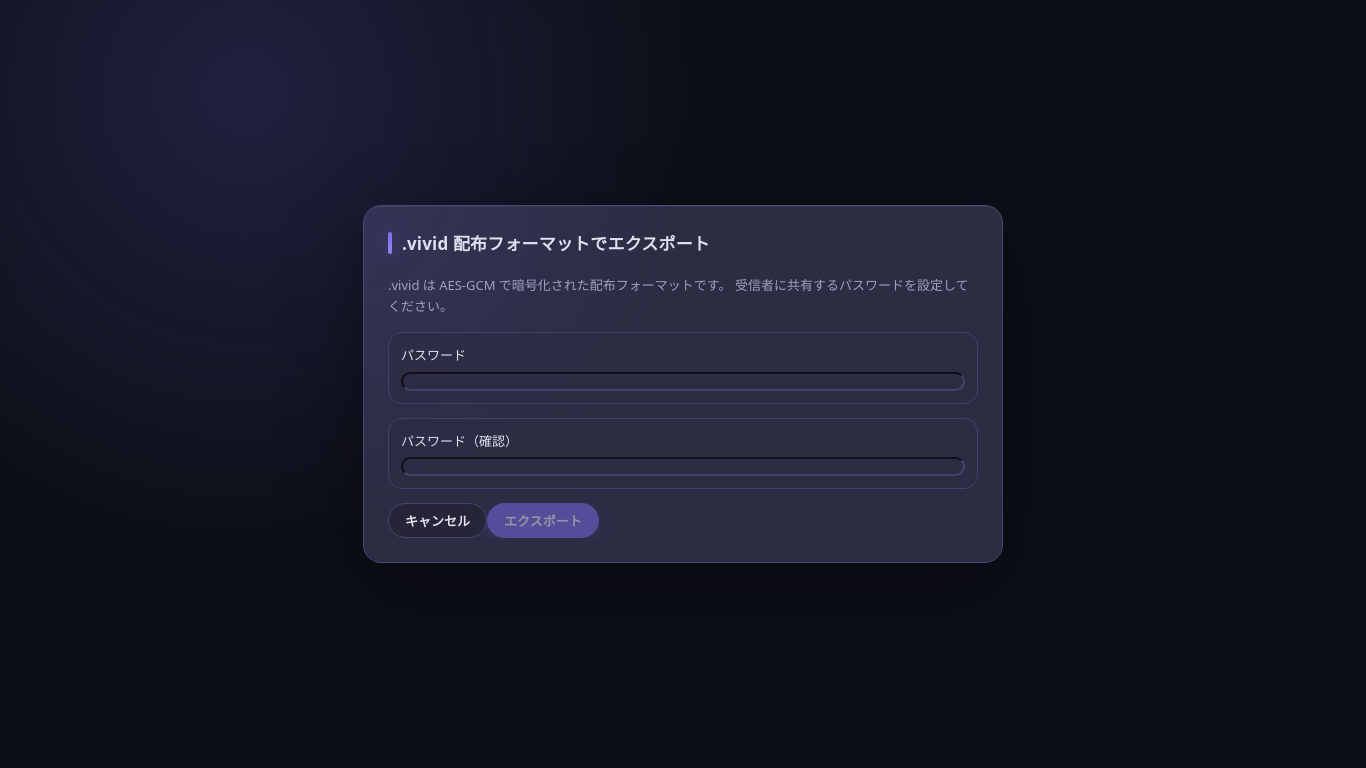
Test: VividDialog › 共通動作 › 処理中は入力フィールドとボタンが無効化
The image size is (1366, 768).
Type "go" into the password field labelled "パスワード" at [683, 381], box [401, 372, 965, 390]
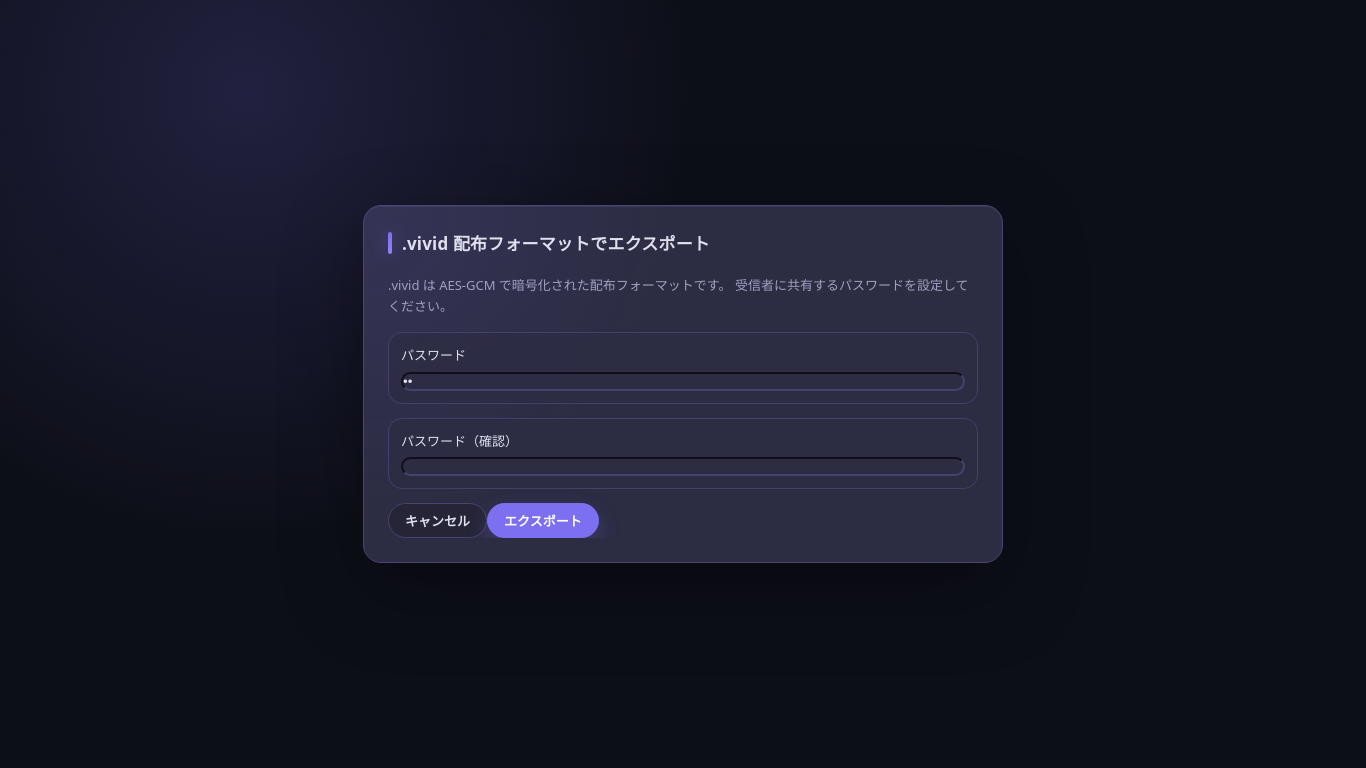
Type "go" into the password field labelled "パスワード（確認）" at [683, 467], box [401, 457, 965, 476]
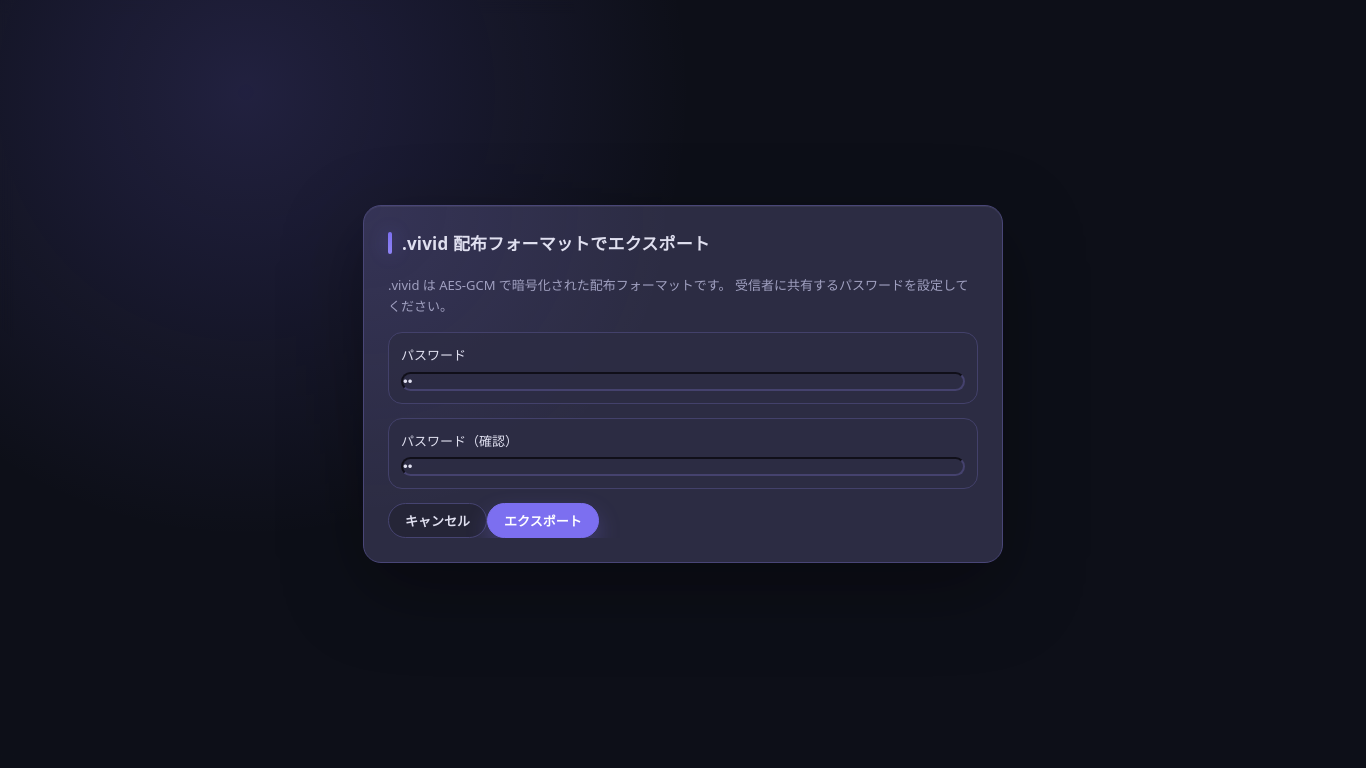
Click the button "エクスポート" at [543, 521], box [487, 503, 599, 538]
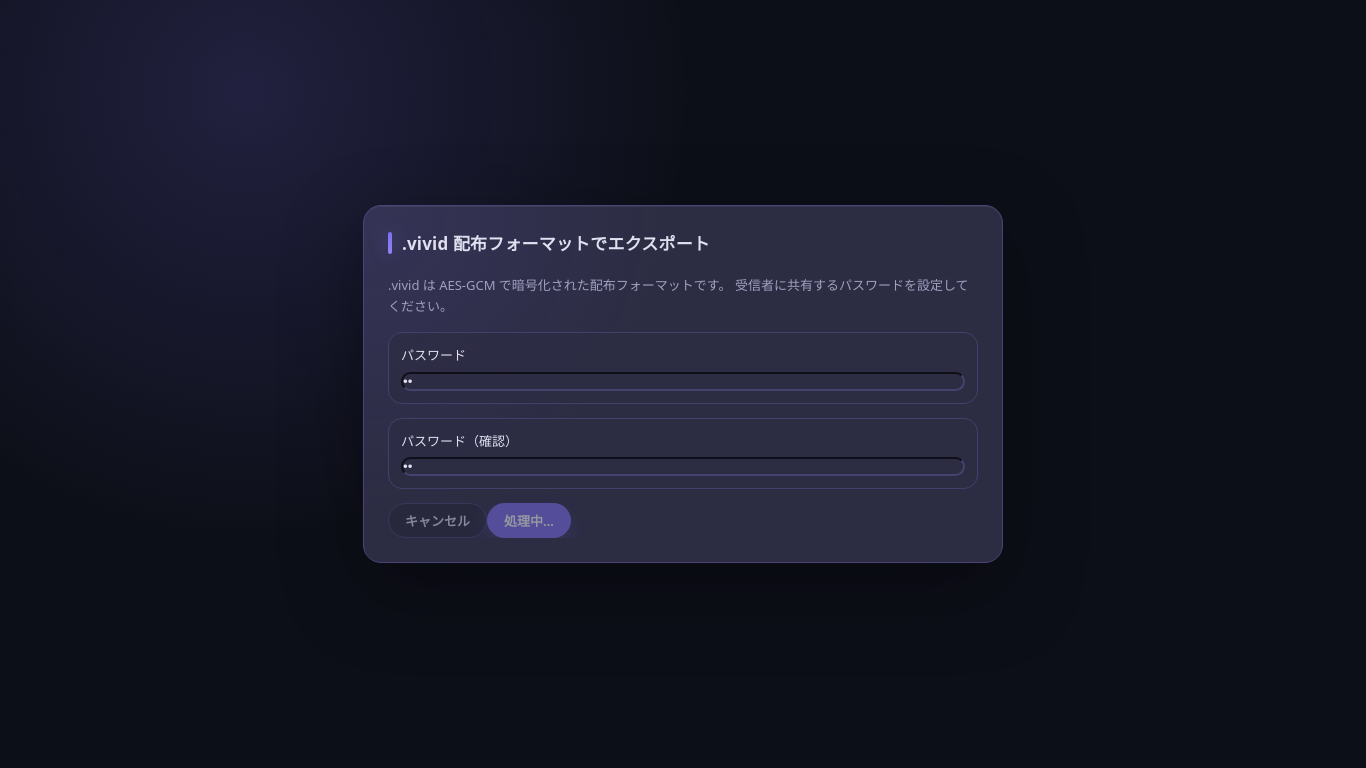
Expected: the password field labelled "パスワード" is disabled, [401, 372, 965, 390]
Expected: the button "処理中..." is disabled, [487, 503, 571, 538]
Expected: the button "キャンセル" is disabled, [388, 503, 487, 538]
